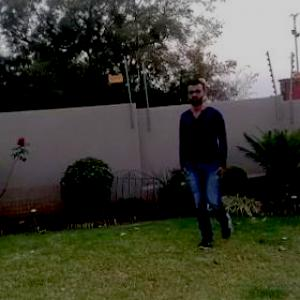follow: (179, 85, 228, 234)
